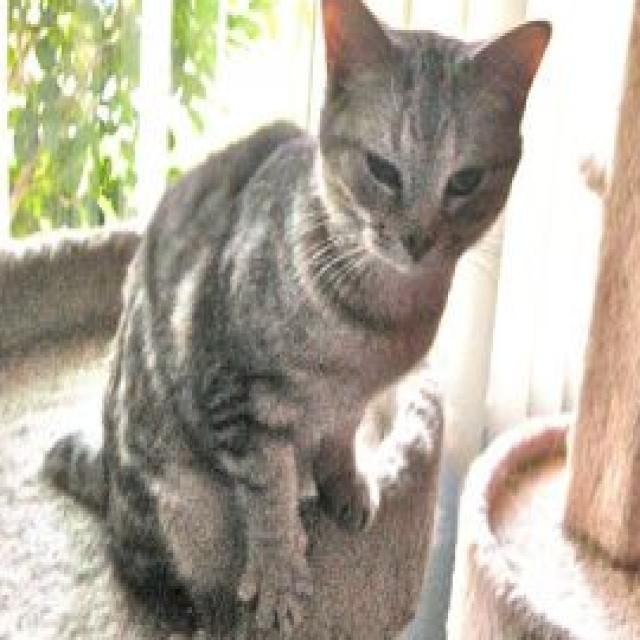American Bobtail: (33, 0, 555, 640)
